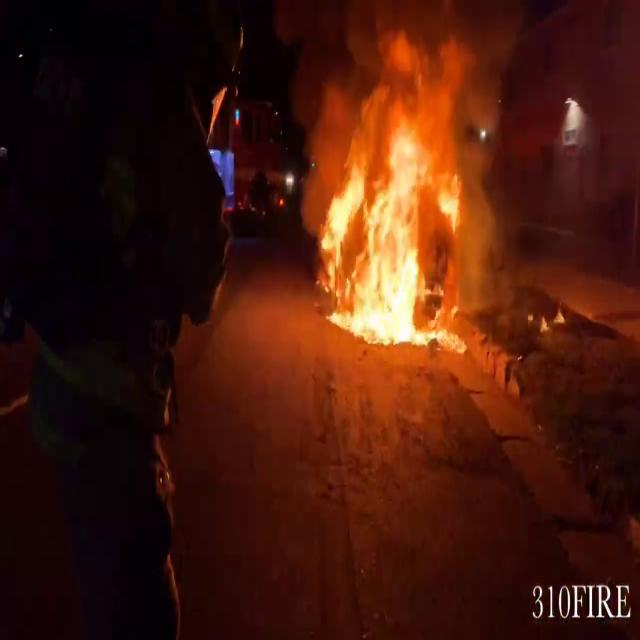Fire: (312, 31, 488, 354)
